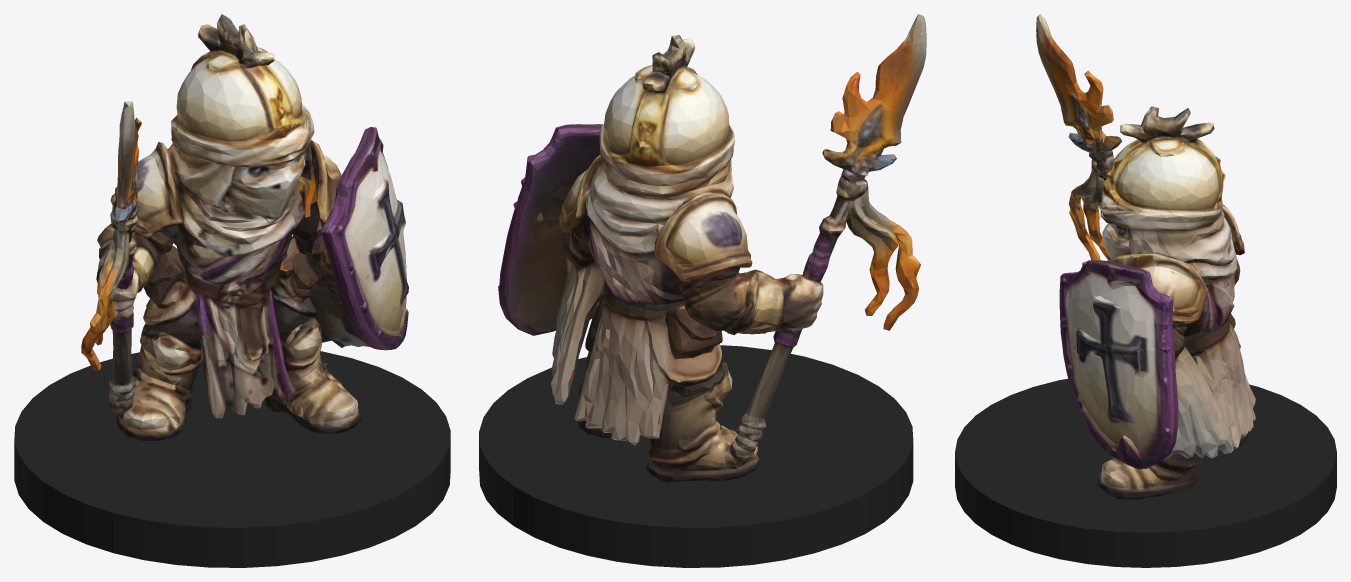
Rendered from wm-defenders.glb.
3 renders of one model, left to right at view 1: azimuth 30°, elevation 25°; view 2: azimuth 150°, elevation 25°; view 3: azimuth 270°, elevation 25°, orthographic. The views are drawn at different scales.
Visible parts, largest first — view 1: figure, base; view 2: figure, base; view 3: figure, base.
Part boxes in pixels (x1=…): figure: x1=81, y1=14, x2=408, y2=440; base: x1=14, y1=351, x2=450, y2=567; figure: x1=498, y1=14, x2=926, y2=482; base: x1=479, y1=345, x2=913, y2=567; figure: x1=1036, y1=14, x2=1255, y2=499; base: x1=955, y1=378, x2=1336, y2=567.
Bounding box in the file's own units: 1.18 × 1.37 × 1.18.
2 materials, 1 textured.
